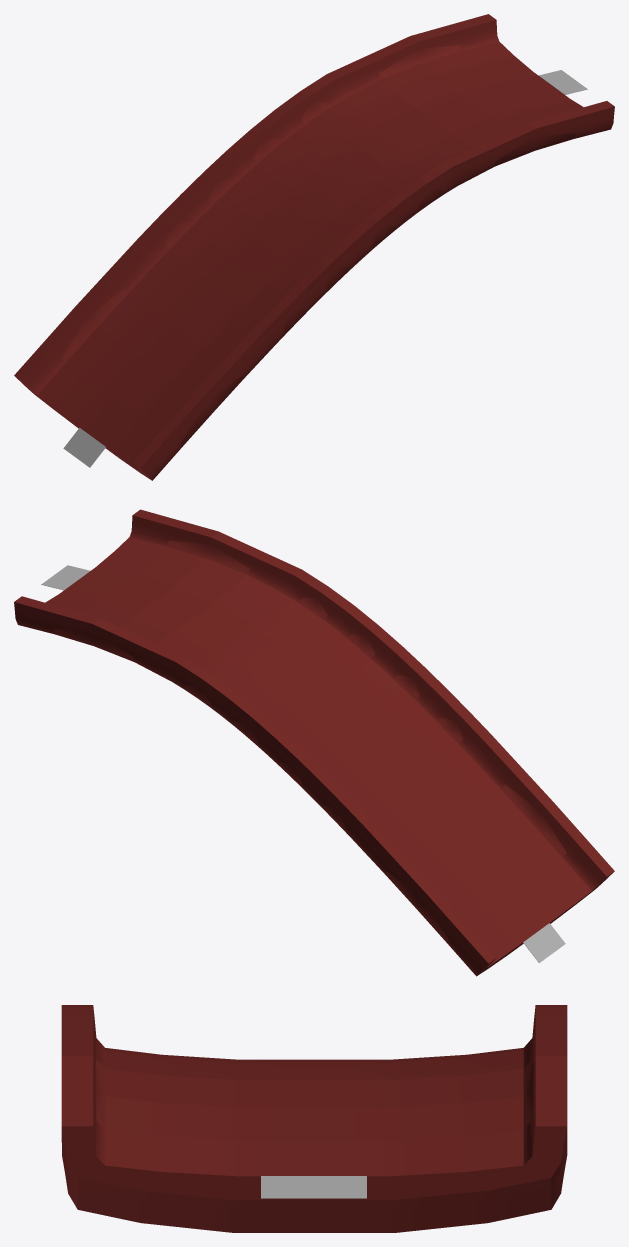
The model's file is New45Down.fbx.
The picture shows the model from 3 angles, top to bottom: view 1: azimuth 30°, elevation 25°; view 2: azimuth 150°, elevation 25°; view 3: azimuth 270°, elevation 25°; orthographic projection. The views are drawn at different scales.
Visible parts, largest first — view 1: pPipe3, pasted__pasted__pCube32, pasted__pasted__pCube2; view 2: pPipe3, pasted__pasted__pCube32, pasted__pasted__pCube2; view 3: pPipe3, pasted__pasted__pCube2.
Boxes of the visible parts, bbox=[...] form: pPipe3: bbox=[14, 14, 614, 480]; pasted__pasted__pCube32: bbox=[63, 427, 105, 467]; pasted__pasted__pCube2: bbox=[538, 70, 587, 94]; pPipe3: bbox=[14, 509, 614, 976]; pasted__pasted__pCube32: bbox=[523, 923, 565, 963]; pasted__pasted__pCube2: bbox=[41, 565, 90, 590]; pPipe3: bbox=[61, 1005, 567, 1232]; pasted__pasted__pCube2: bbox=[261, 1176, 366, 1198].
Size of the model in its own units: 21.71 by 11.75 by 9.54.
